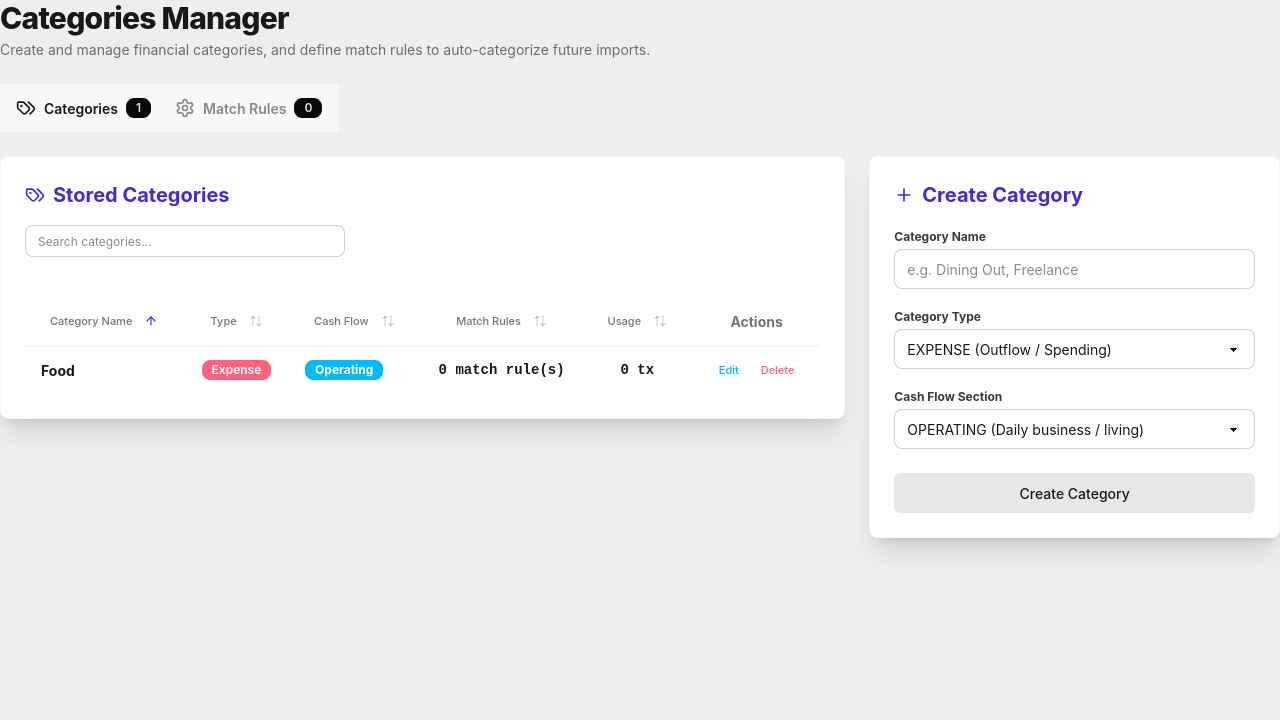
Test: CategoriesClient — editing a category › opens edit modal with pre-filled values
The image size is (1280, 720).
Step 1. Click the button with aria-label "Edit Food" → [729, 370], box [710,358,748,382]
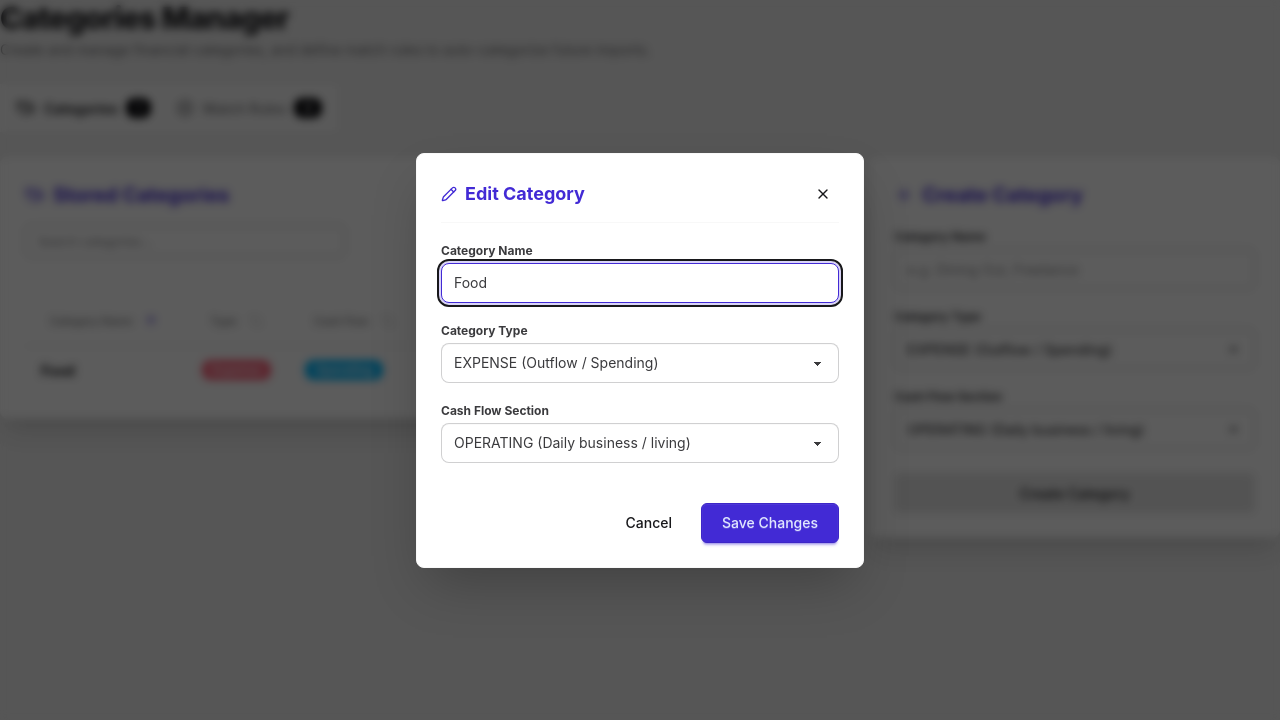
Result: the heading "Edit Category" is shown at [441,180,585,208]
Result: the field showing "Food" is shown at [441,262,839,302]
